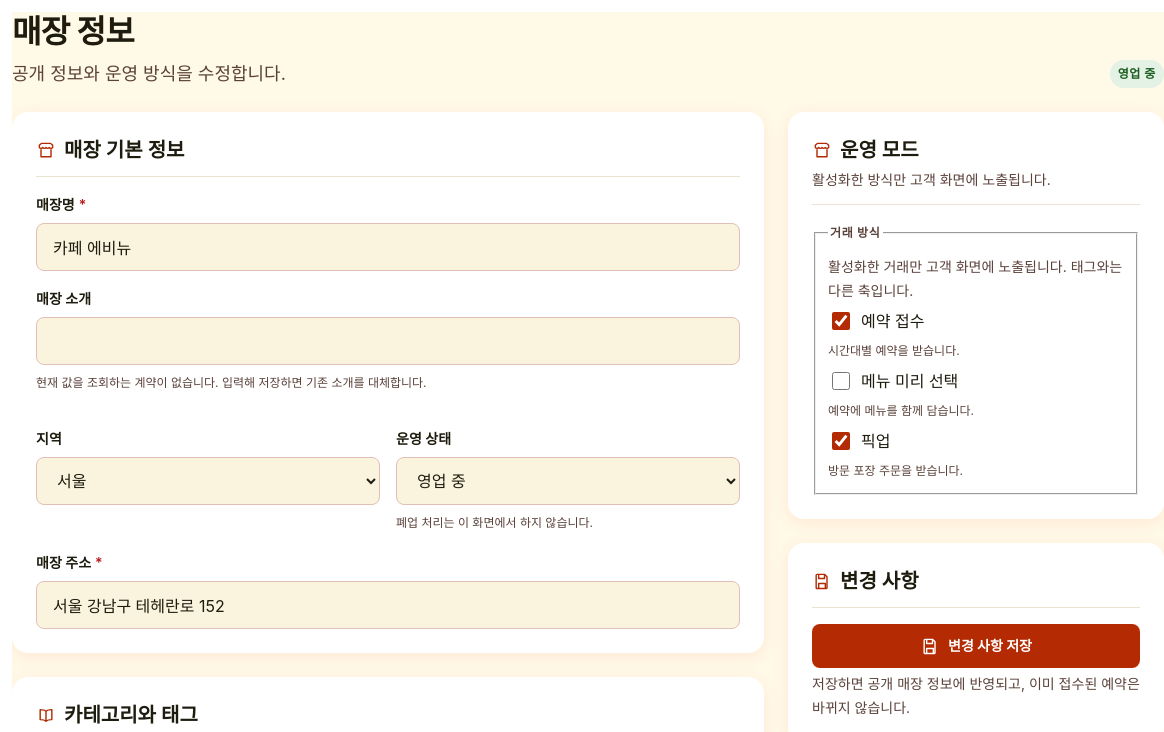
Test: 매장 정보 화면 › 저장 충돌은 최신 상태를 다시 확인하도록 안내한다
Replace the text in the field labelled "매장명" with "새 이름" at coordinates (388, 247), box [36, 223, 740, 271]
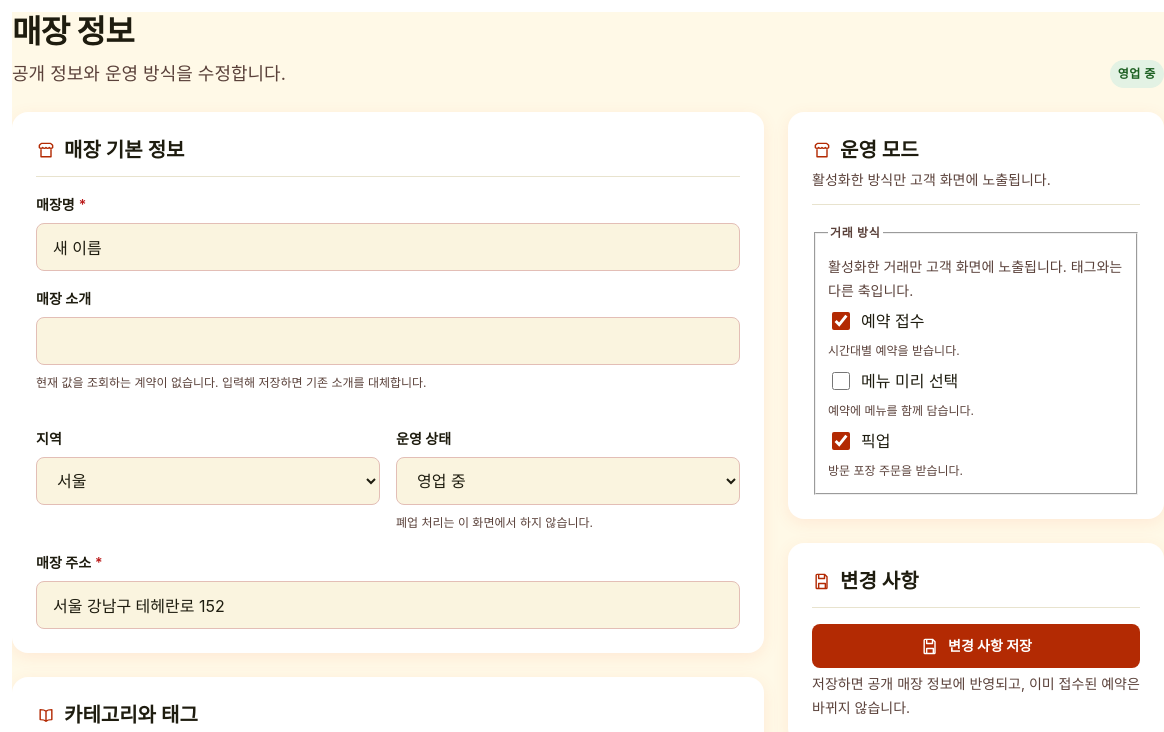
Click the button "변경 사항 저장".
click(976, 646)  # box [812, 624, 1140, 668]
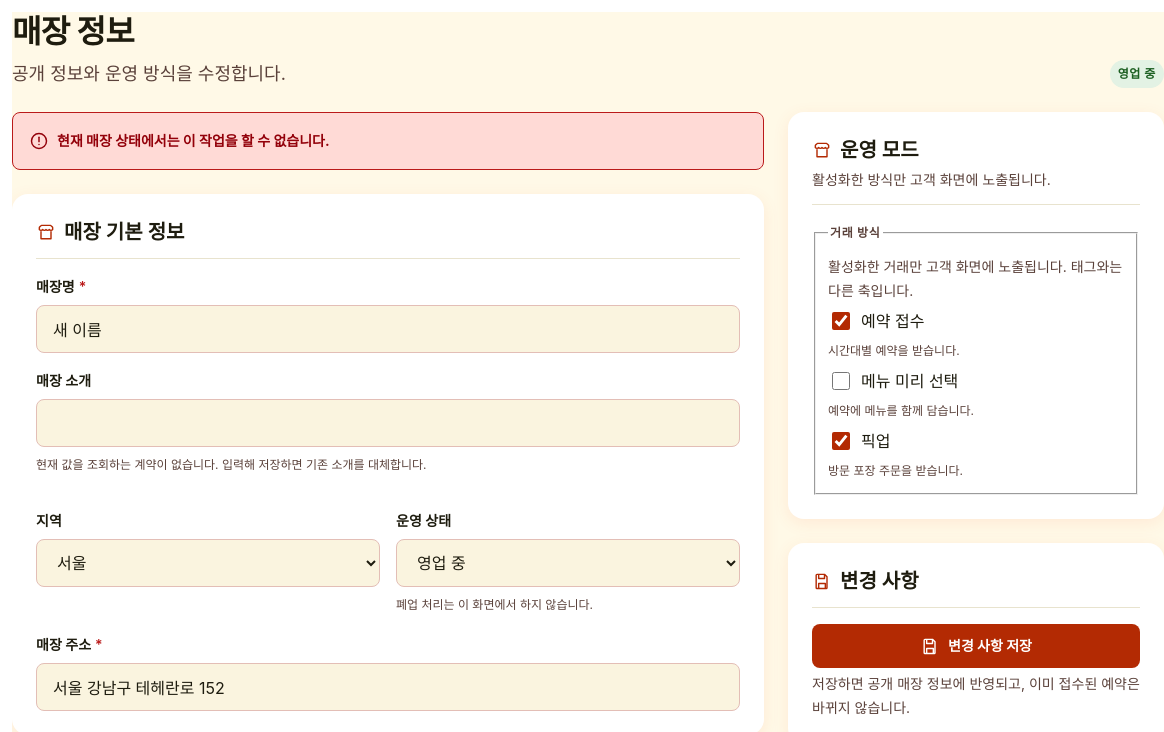
Expected: the text "현재 매장 상태에서는 이 작업을 할 수 없습니다." is shown, [57, 132, 330, 149]
